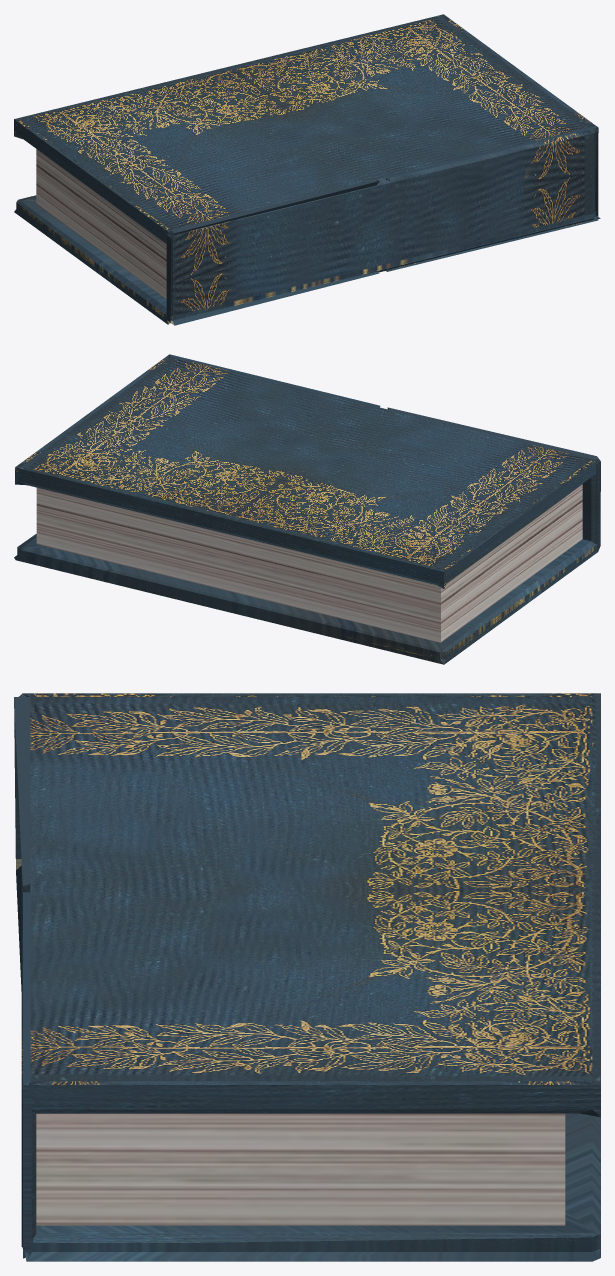
Rendered from Blue_Book.fbx.
3 renders of one model, top to bottom at view 1: azimuth 30°, elevation 25°; view 2: azimuth 150°, elevation 25°; view 3: azimuth 270°, elevation 25°, orthographic. The views are drawn at different scales.
Visible parts, largest first — view 1: BookSpine, Pages; view 2: BookSpine, Pages; view 3: BookSpine, Pages.
Boxes of the visible parts, x1,y1,x2,y2 form: BookSpine: (14,14,600,325); Pages: (36,149,166,298); BookSpine: (14,354,600,664); Pages: (36,484,582,642); BookSpine: (14,693,600,1261); Pages: (36,1113,565,1225).
Bounding box in the file's own units: 323 × 66.6 × 203.
Materials: 2 (2 with a texture image).
